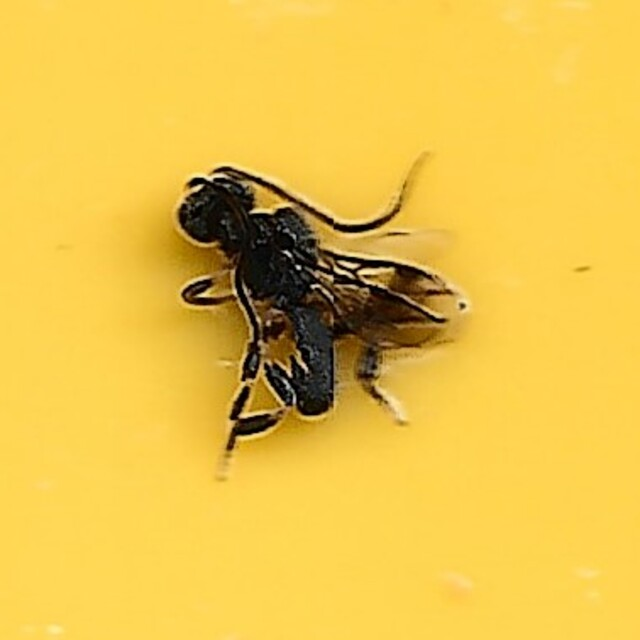Brachycera: (169, 162, 471, 478)
